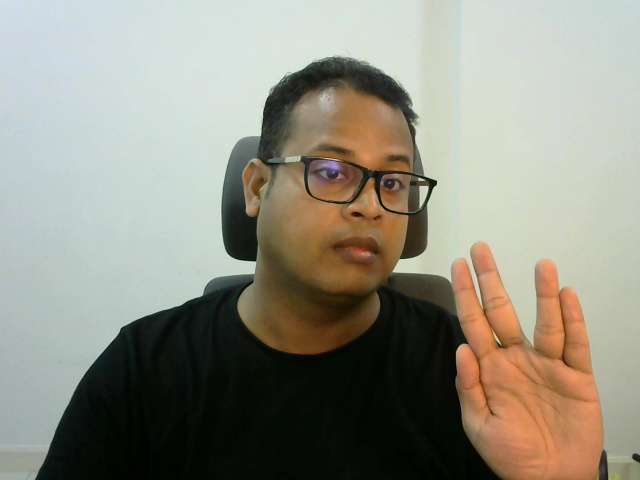LongLive: (445, 240, 604, 480)
